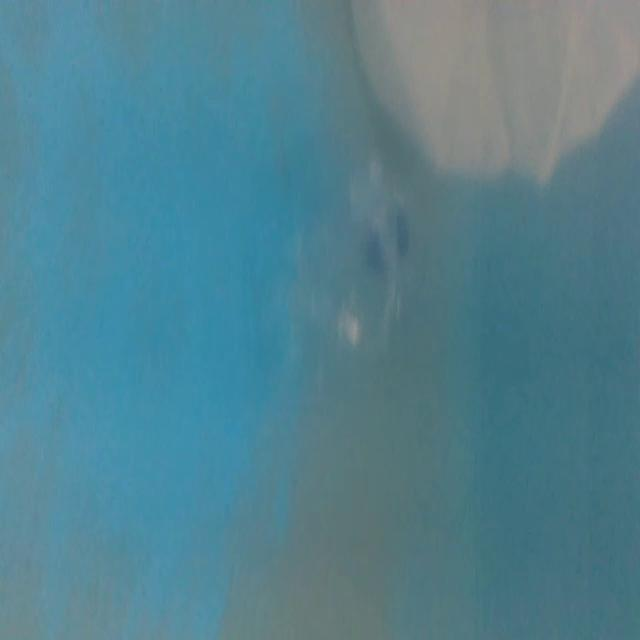plastic bags: (338, 0, 640, 207)
plastic bottle: (282, 152, 447, 394)
